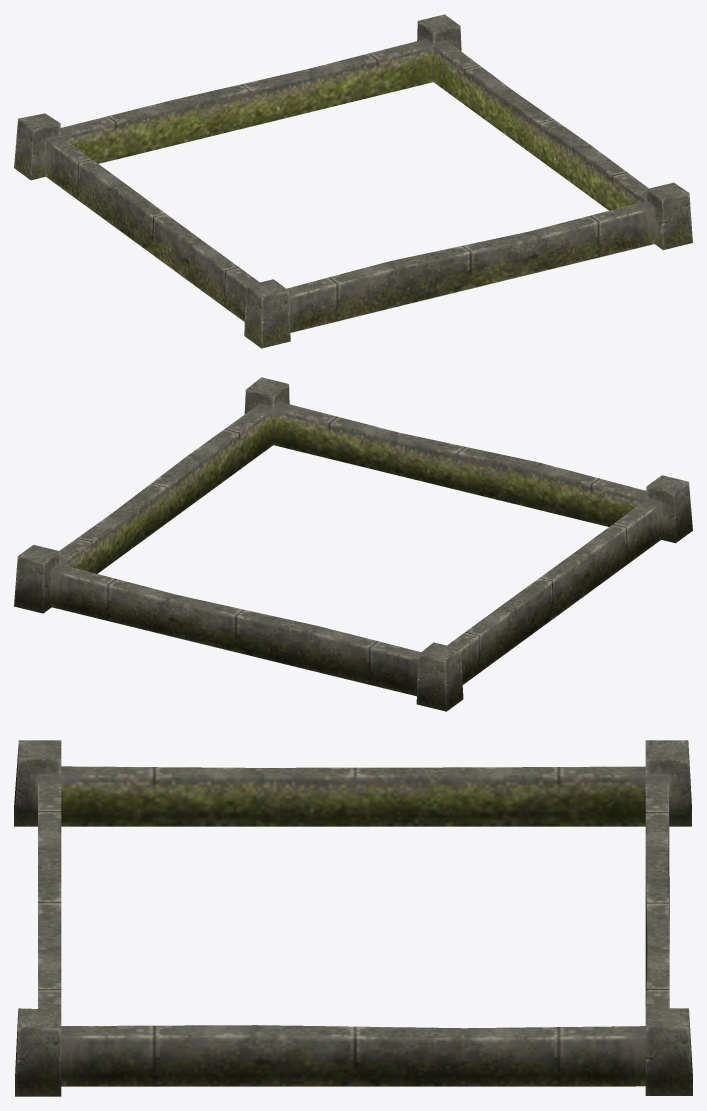
3 views of the same model, one above another, from view 1: azimuth 30°, elevation 25°; view 2: azimuth 150°, elevation 25°; view 3: azimuth 270°, elevation 25° (orthographic). The views are drawn at different scales.
Parts seen in each view (by area): view 1: OM_26_sn_T03obj01A; view 2: OM_26_sn_T03obj01A; view 3: OM_26_sn_T03obj01A.
Boxes of the visible parts, bbox=[...] form: OM_26_sn_T03obj01A: bbox=[14, 14, 692, 348]; OM_26_sn_T03obj01A: bbox=[14, 377, 692, 711]; OM_26_sn_T03obj01A: bbox=[14, 740, 692, 1096].
Bounding box in the file's own units: 6.66 × 0.73 × 6.59.
1 material, 1 textured.
